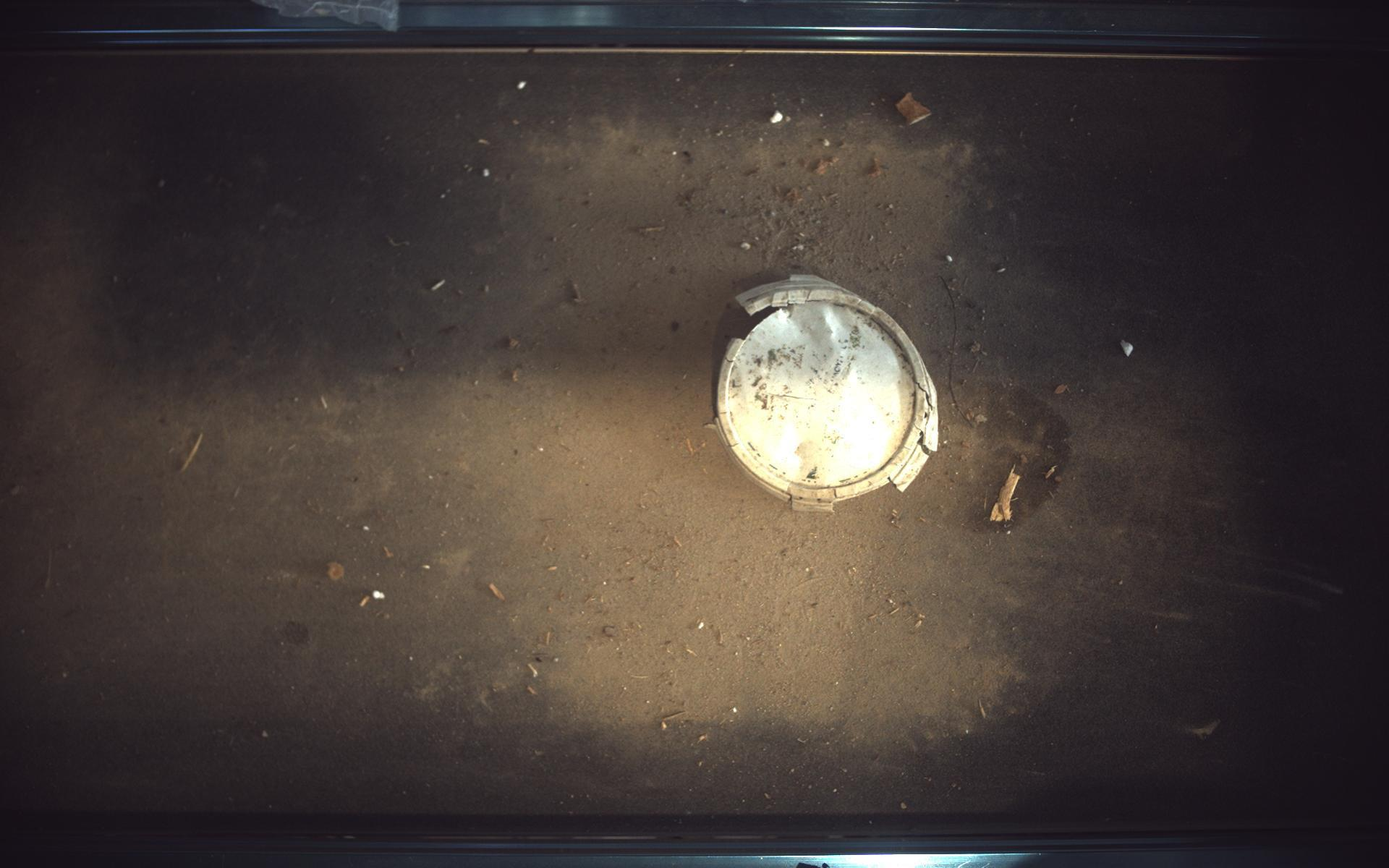plastic: (717, 274, 940, 511)
